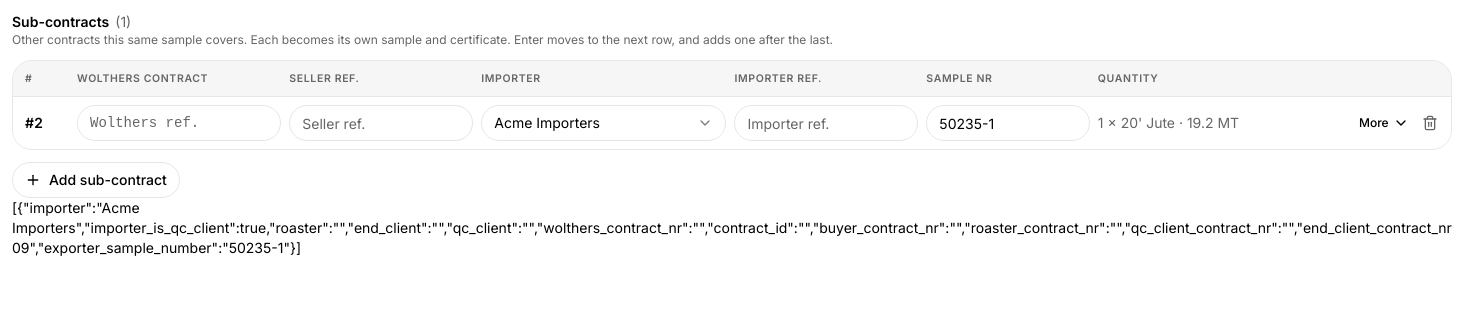
SubContractsTable contract lookup › fills the contract from sys and links it once the typed number is found
Type "41923/26" into the dropdown with placeholder "Wolthers ref." at (179, 123), box [77,105,281,141]
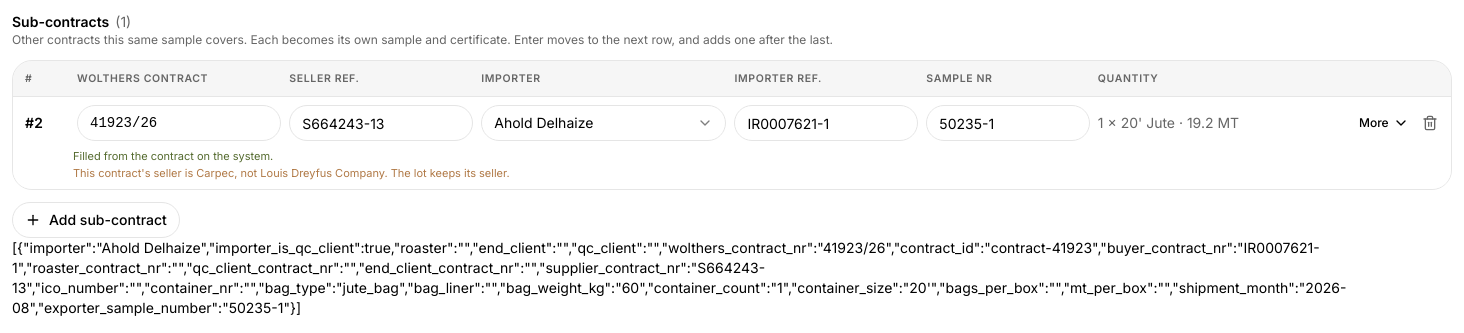
Check: the field showing "IR0007621-1" is shown, box [734,105,918,141]
Check: the text "Filled from the contract on the system." is shown, box [73,149,273,163]
Check: the text "This contract's seller is Carpec" is shown, box [73,166,510,180]
